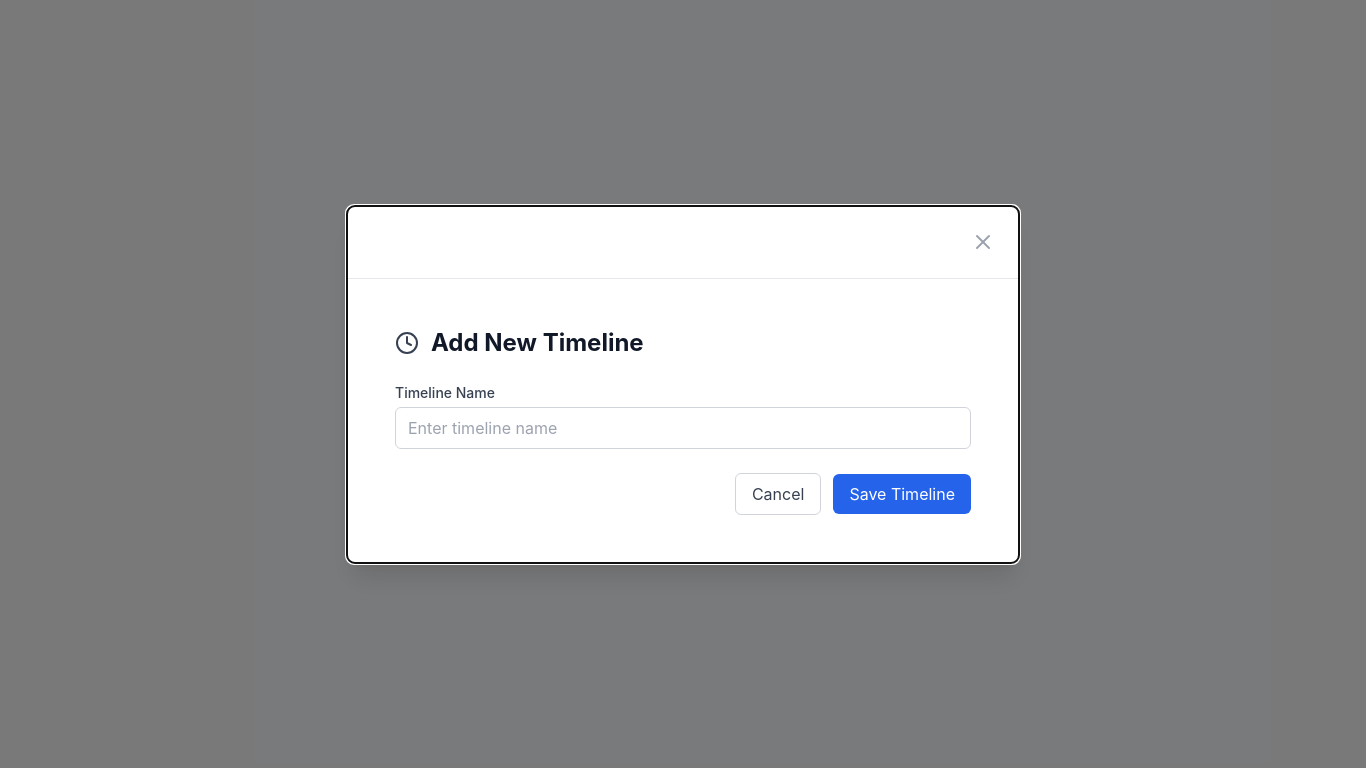
TimelineModal › Validation › shows error when timeline name is empty
The image size is (1366, 768).
Click the button "Save Timeline".
click(902, 494)  # box [833, 474, 971, 514]
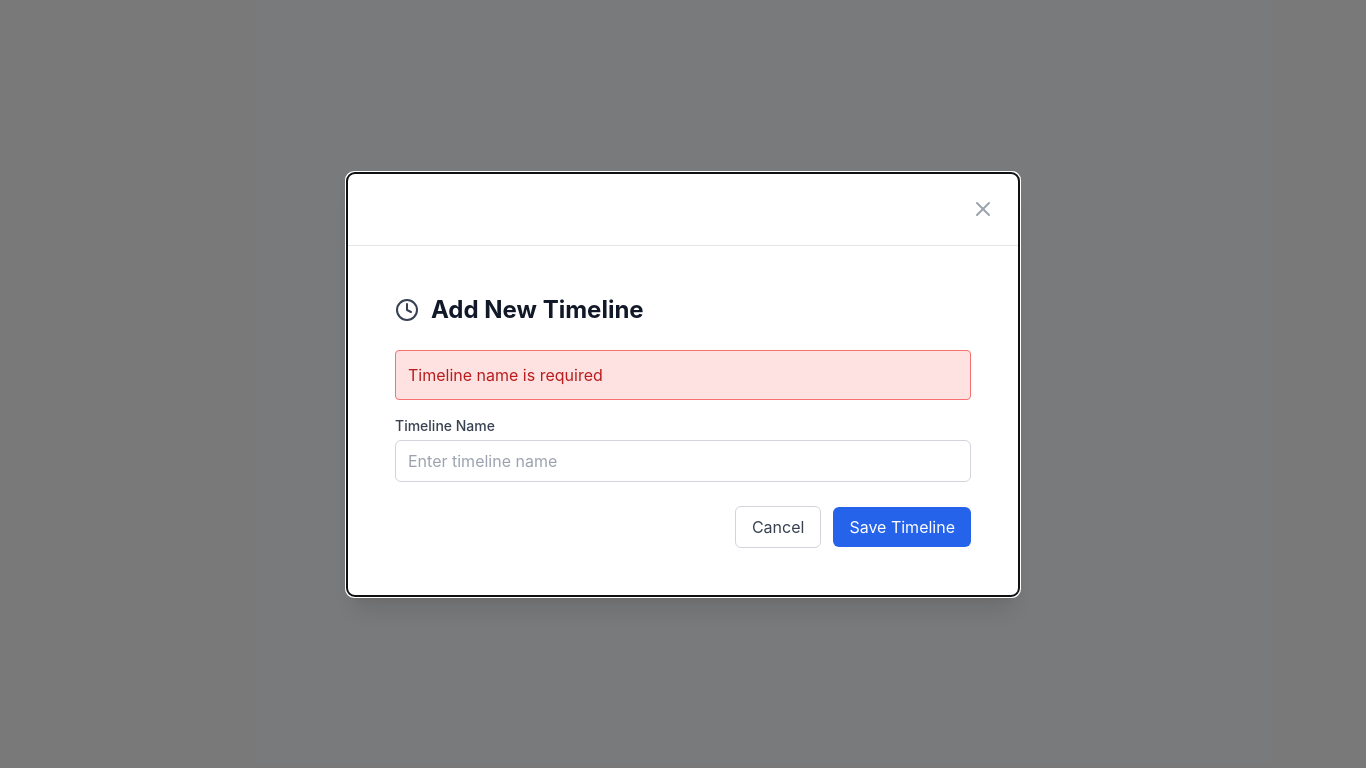
Result: the text "Timeline name is required" is shown at [395, 350, 971, 400]
